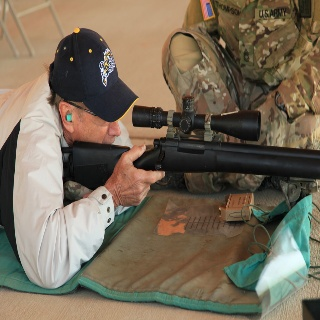rifle: (59, 105, 320, 195)
